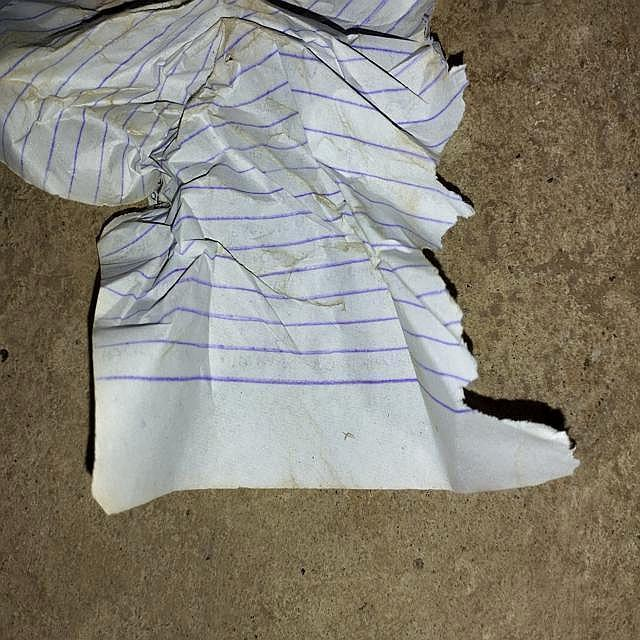Biodegradable: (1, 1, 577, 509)
